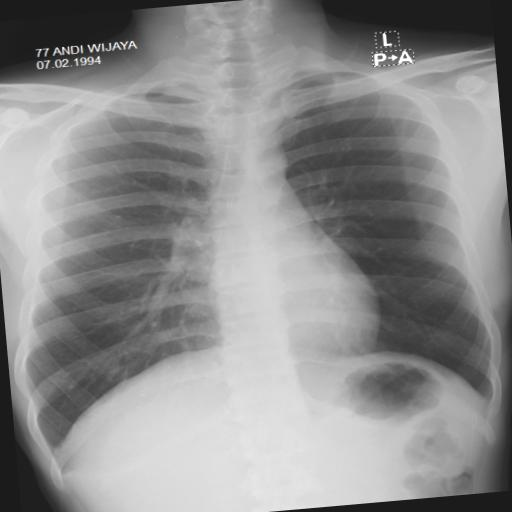normal: (2, 27, 502, 461)
